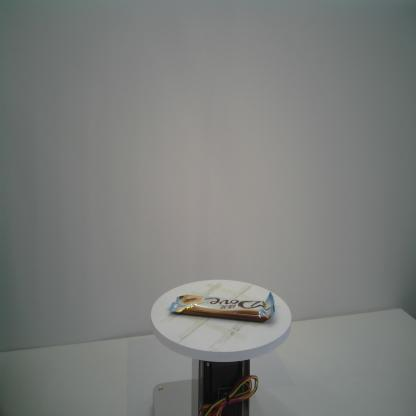Chocolate: (166, 289, 277, 323)
